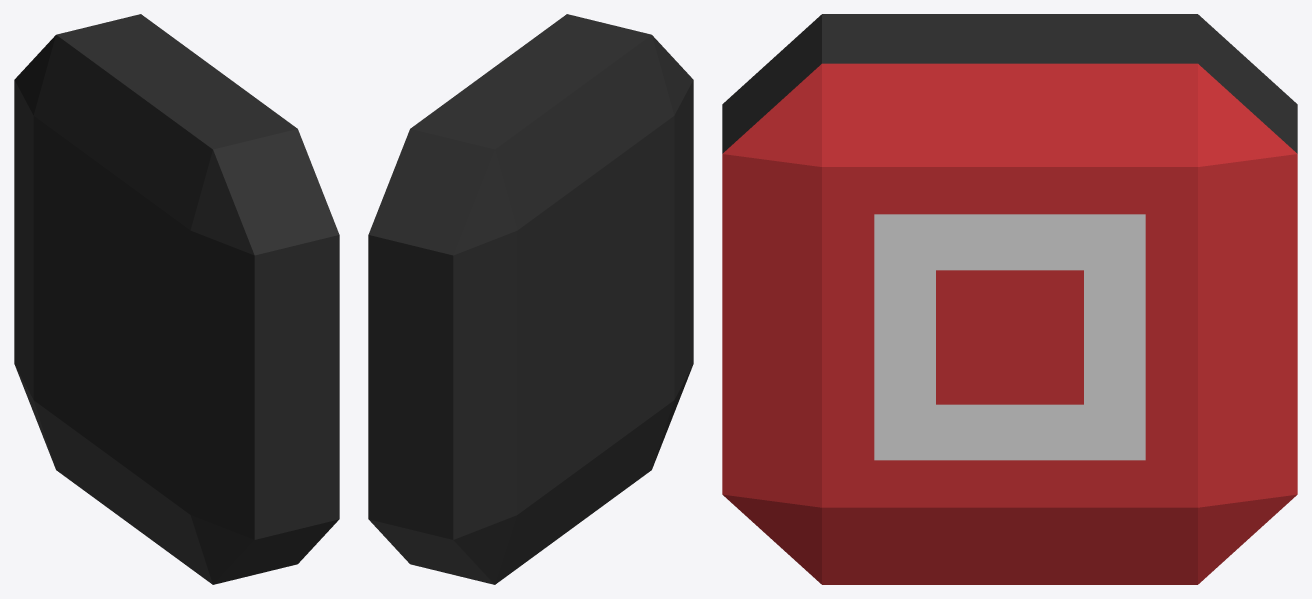
The model's file is target_air.fbx.
The picture shows the model from 3 angles, left to right: view 1: azimuth 30°, elevation 25°; view 2: azimuth 150°, elevation 25°; view 3: azimuth 270°, elevation 25°; orthographic projection. The views are drawn at different scales.
Parts seen in each view (by area): view 1: Cube; view 2: Cube; view 3: Cube.
Boxes of the visible parts, box(x1,y1,x2,y2) form: Cube: box(14, 14, 339, 584); Cube: box(368, 14, 693, 584); Cube: box(722, 14, 1297, 584).
Bounding box in the file's own units: 200 × 200 × 62.43.
